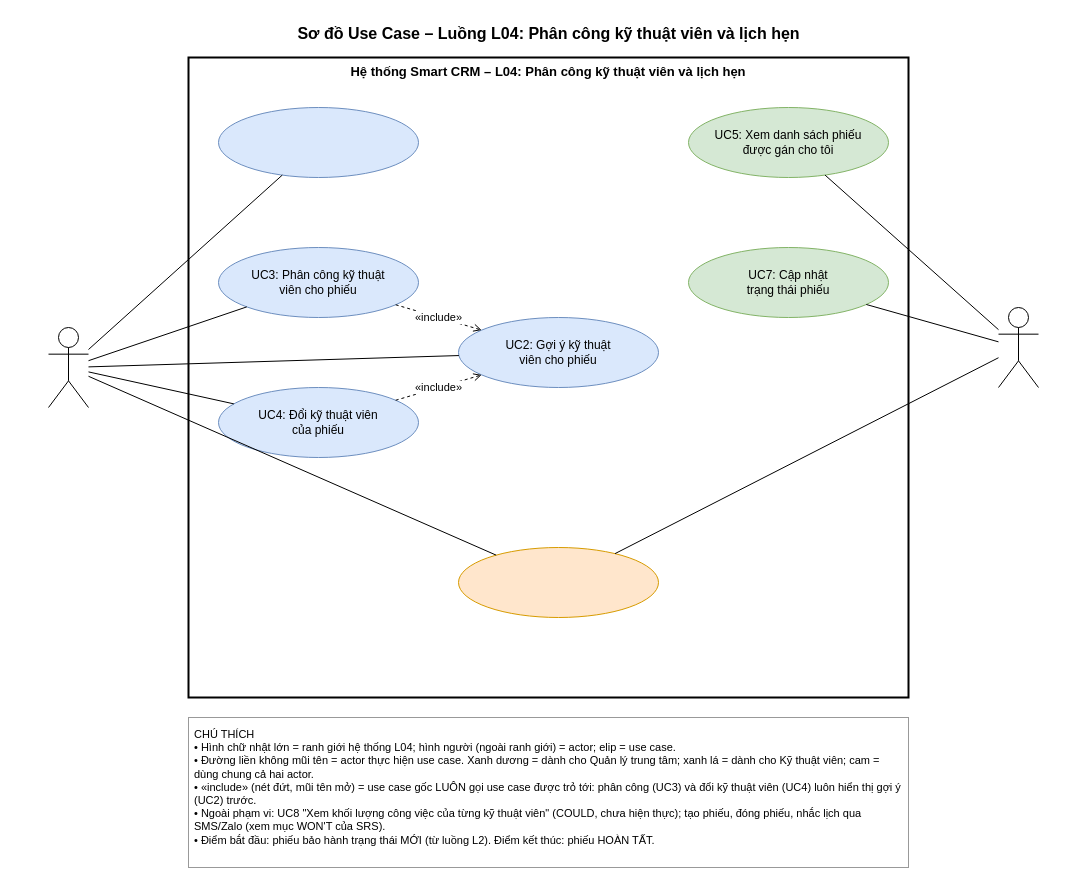
Image size: 1073x885. Some labels were removed from this diagram. Here are the shapes that lost their labels. From the top down, the box of each, then its label:
(218, 106, 418, 178): UC1: Xem danh sách phiếu chờ phân công
(48, 326, 88, 408): Quản lý trung tâm
(998, 306, 1038, 388): Kỹ thuật viên
(458, 546, 658, 618): UC6: Đặt lịch hẹn giao/nhận thiết bị
